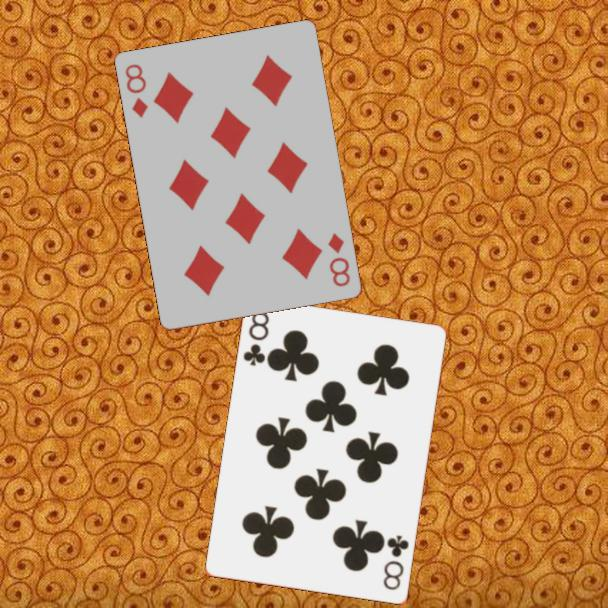c08: (380, 532, 412, 593), (240, 308, 272, 369)
d08: (122, 61, 151, 121), (325, 229, 353, 290)
